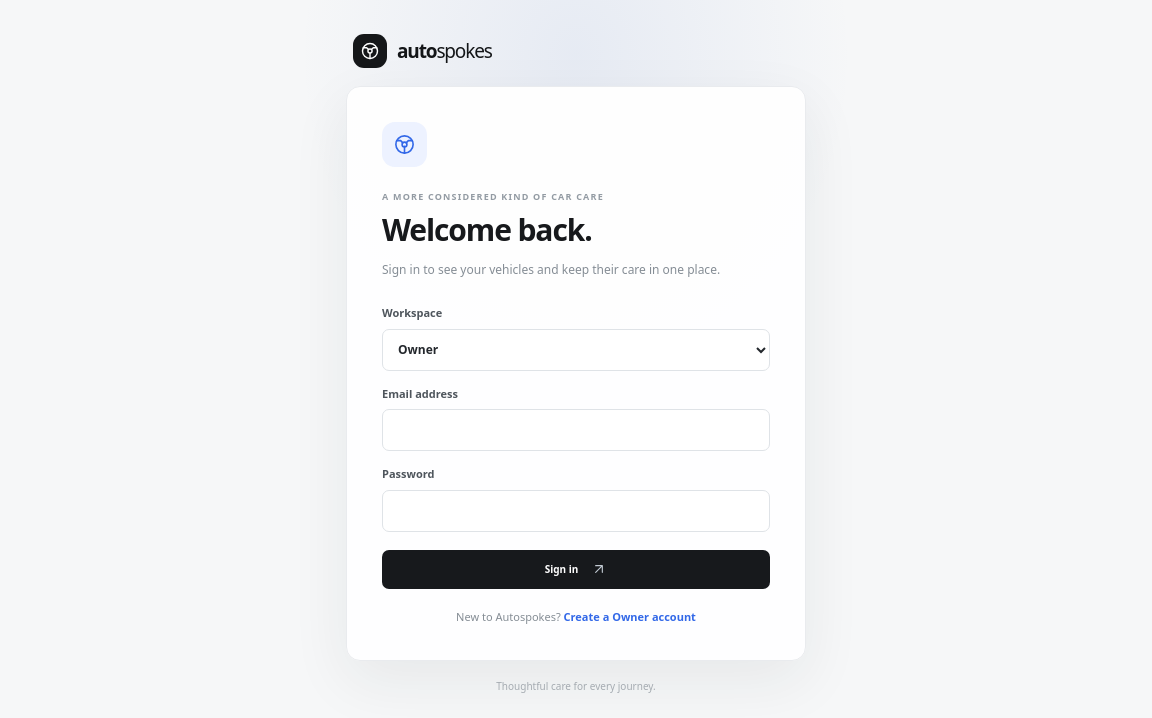
Owner dashboard and navigation › shows the five Owner navigation items on mobile and desktop and only Owner pages
Type "owner@example.test" into the field labelled "Email address" at (576, 430), box top-left (382, 409), bottom-right (770, 451)
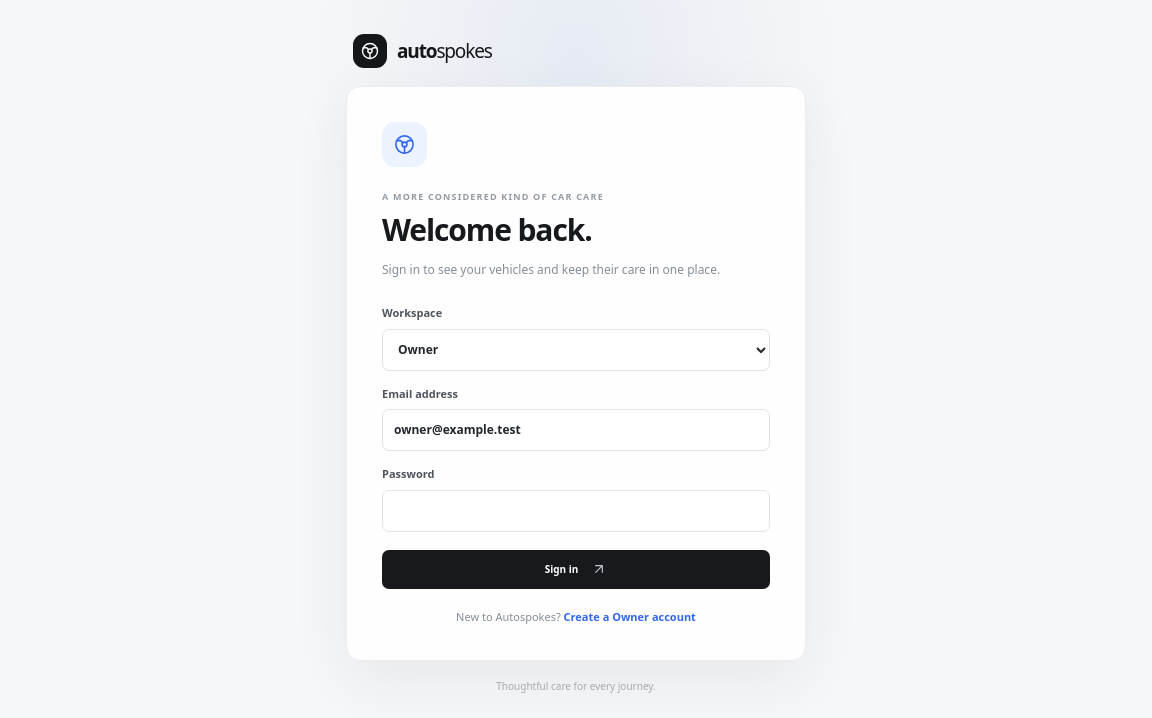
Type "correct-horse-battery-staple" into the password field labelled "Password" at (576, 511), box top-left (382, 490), bottom-right (770, 532)
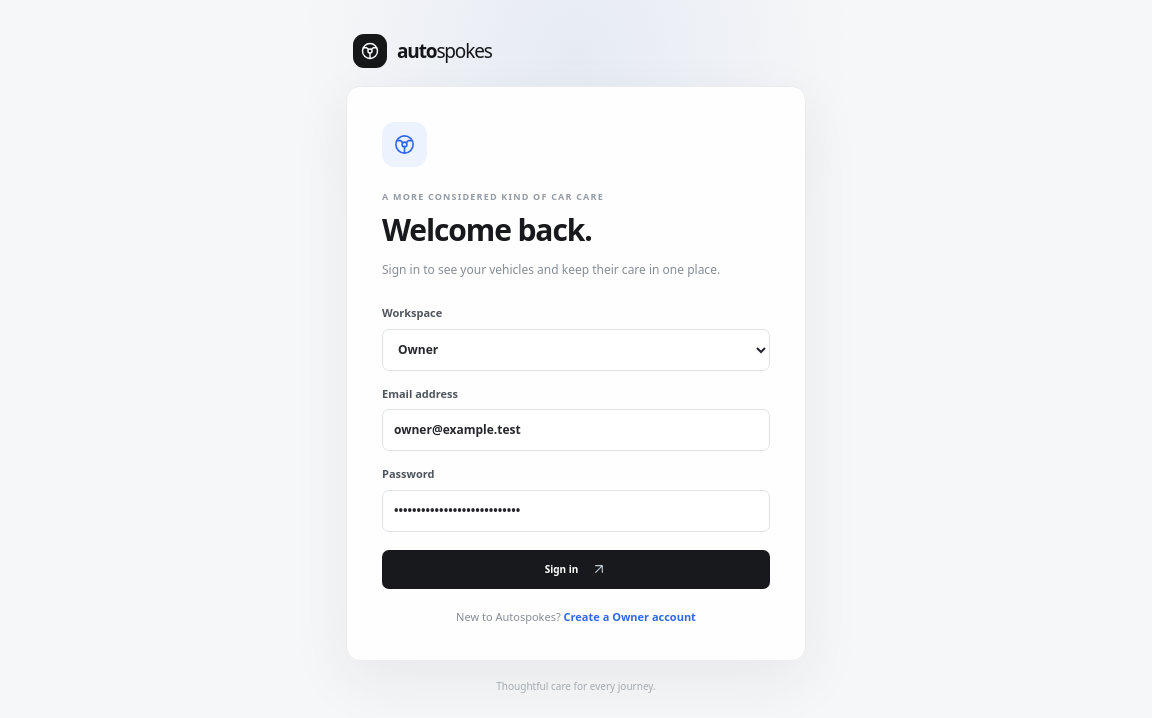
Click the button "Sign in" at (576, 569), box top-left (382, 550), bottom-right (770, 589)
(page scrolled)
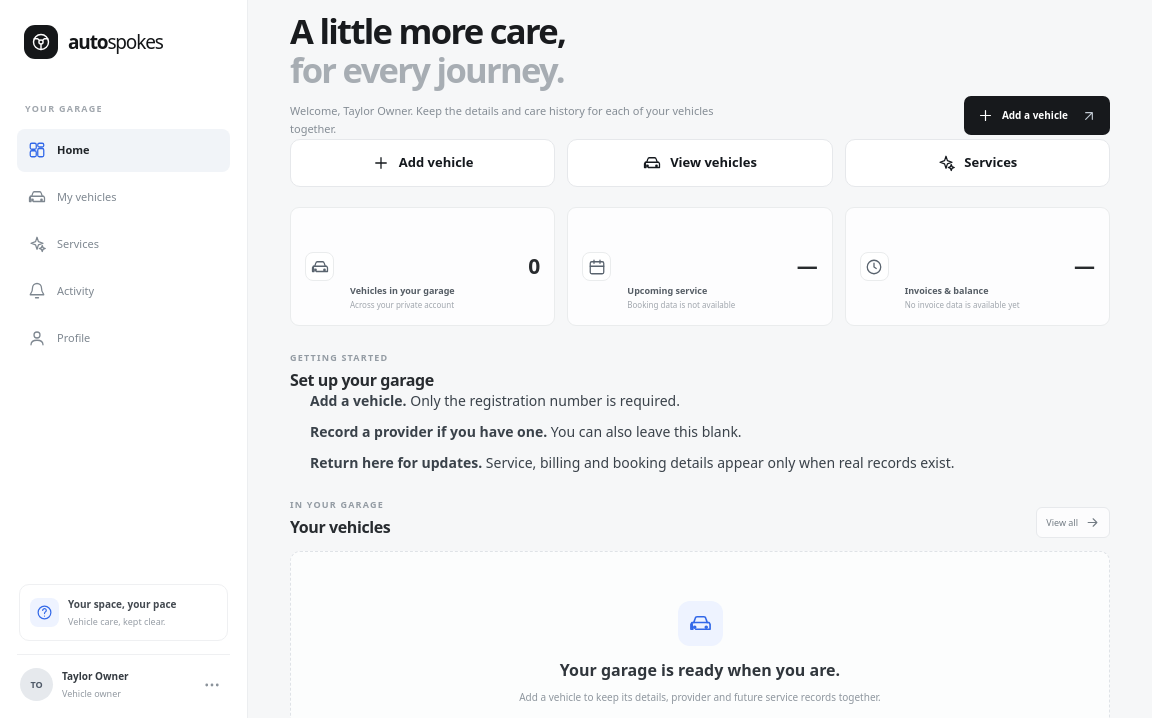
Result: the heading "A little more care,for every journey." is shown at top-left (290, 7), bottom-right (565, 93)
Result: the number of navigation bars named "Owner navigation" is 2
Result: the buttons read "Home", "My vehicles", "Services", "Activity", "Profile", in this order at top-left (17, 128), bottom-right (230, 172); top-left (17, 176), bottom-right (230, 218); top-left (17, 222), bottom-right (230, 266); top-left (17, 270), bottom-right (230, 312); top-left (17, 316), bottom-right (230, 360)
